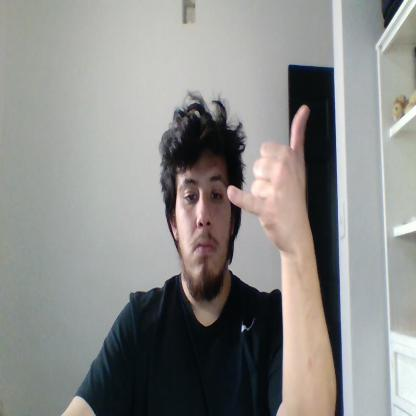Y: (226, 106, 312, 249)
